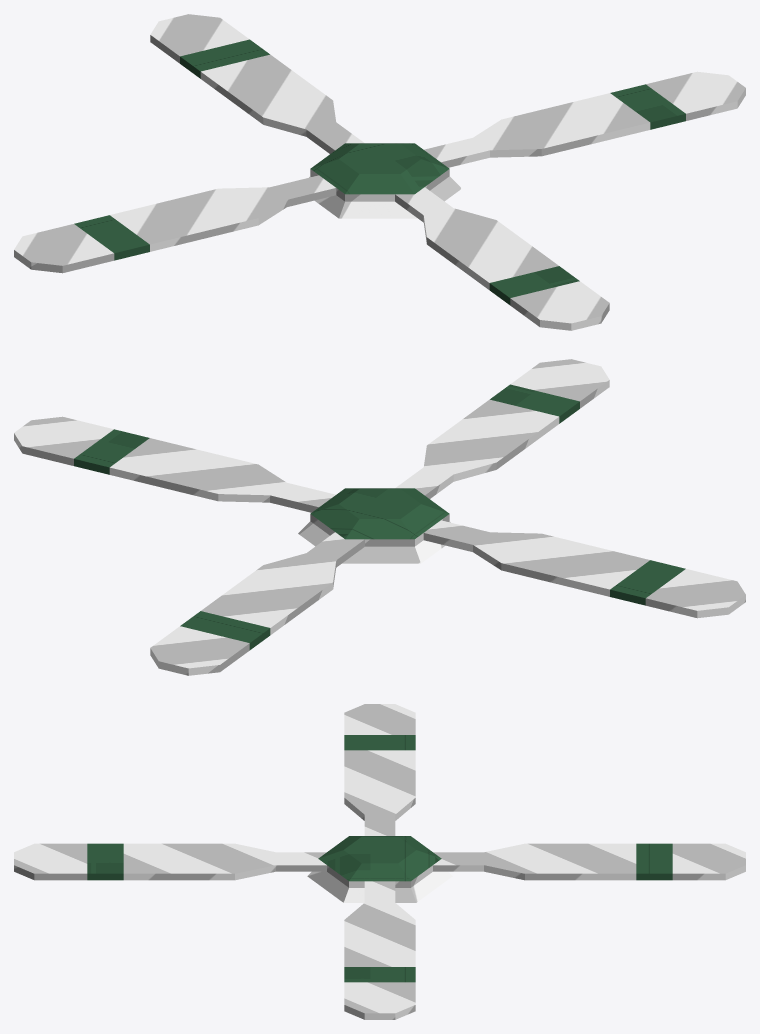
Rendered from heli_propeller.glb.
The picture shows the model from 3 angles, top to bottom: view 1: azimuth 30°, elevation 25°; view 2: azimuth 150°, elevation 25°; view 3: azimuth 270°, elevation 25°; orthographic projection. The views are drawn at different scales.
Parts seen in each view (by area): view 1: mergedBlocks(Clone); view 2: mergedBlocks(Clone); view 3: mergedBlocks(Clone).
Boxes of the visible parts, bbox=[...] form: mergedBlocks(Clone): bbox=[14, 14, 745, 330]; mergedBlocks(Clone): bbox=[14, 359, 745, 675]; mergedBlocks(Clone): bbox=[14, 704, 745, 1019].
Bounding box in the file's own units: 3 × 0.1186 × 3.
Materials: 2 (2 with a texture image).
